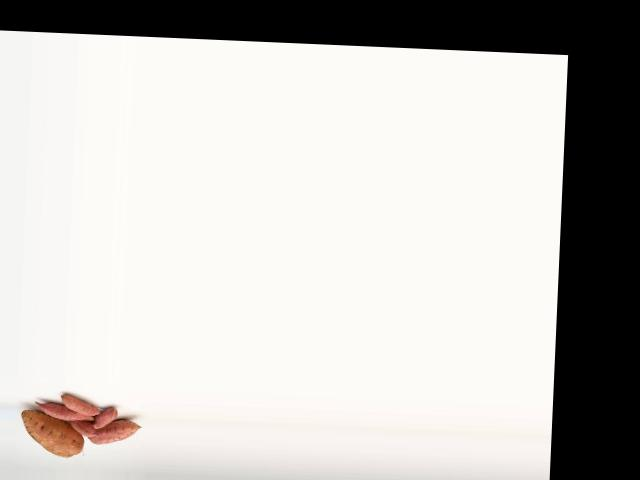sweet_potato: (89, 418, 143, 446)
